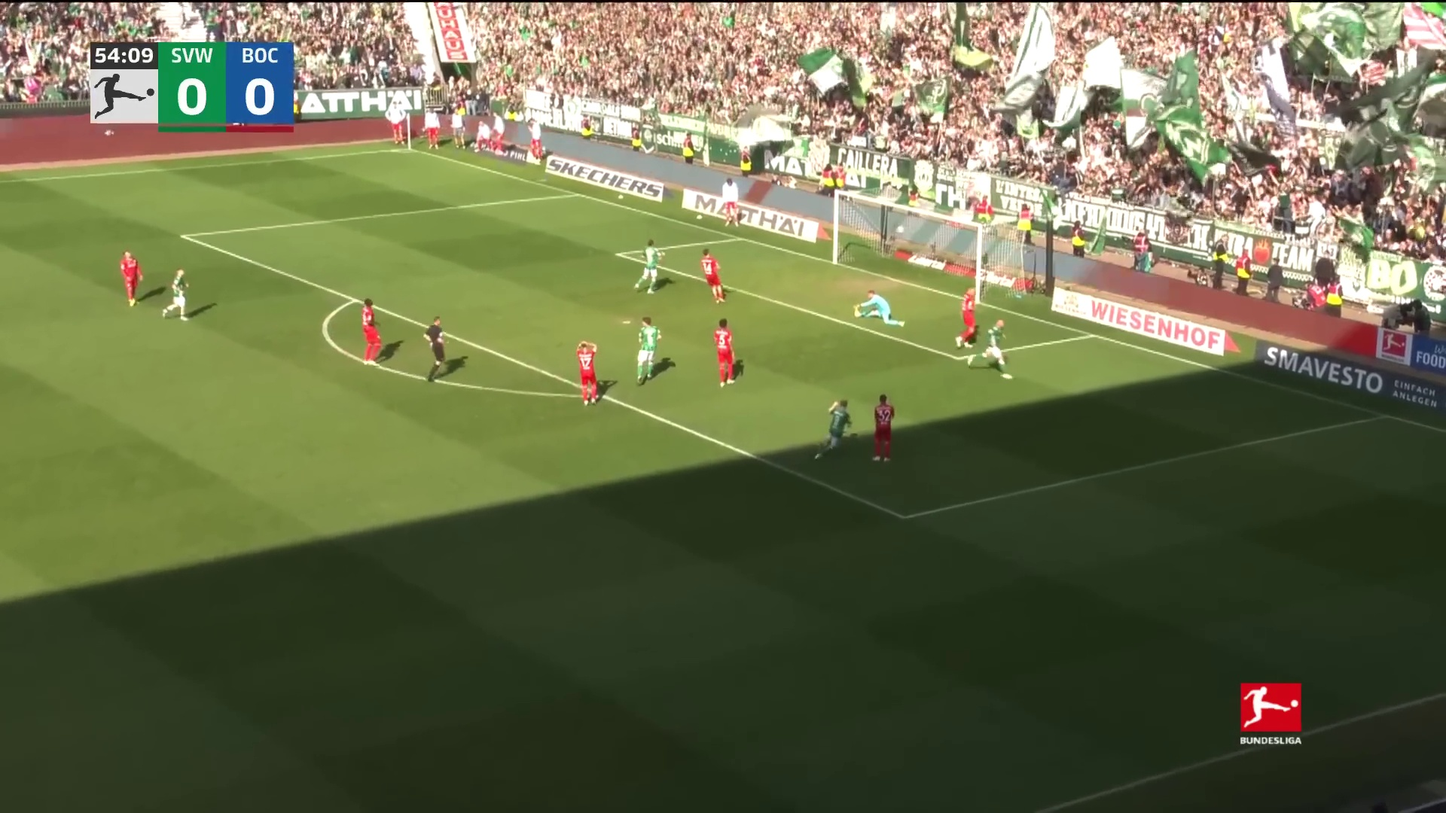player: (810, 397, 858, 461), (966, 321, 1014, 381), (709, 317, 746, 390), (867, 392, 900, 466), (953, 284, 985, 358), (572, 337, 605, 408), (632, 314, 664, 386), (851, 290, 907, 328), (357, 297, 386, 368), (632, 239, 668, 295), (697, 248, 731, 305), (160, 265, 193, 322), (117, 249, 146, 308)
referee: (419, 315, 456, 386)
